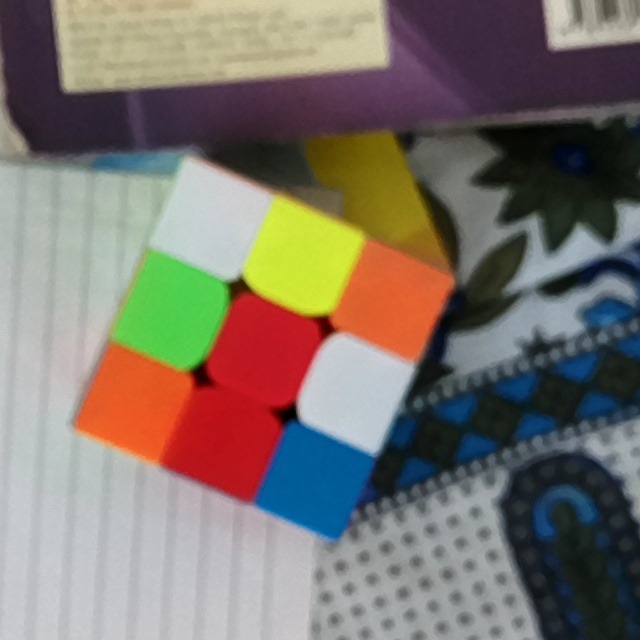tile: (263, 226, 338, 294), (189, 410, 261, 480), (319, 355, 388, 428), (357, 266, 427, 334), (231, 316, 298, 387), (139, 279, 209, 346), (174, 189, 243, 255), (98, 372, 167, 436), (278, 451, 346, 515)
